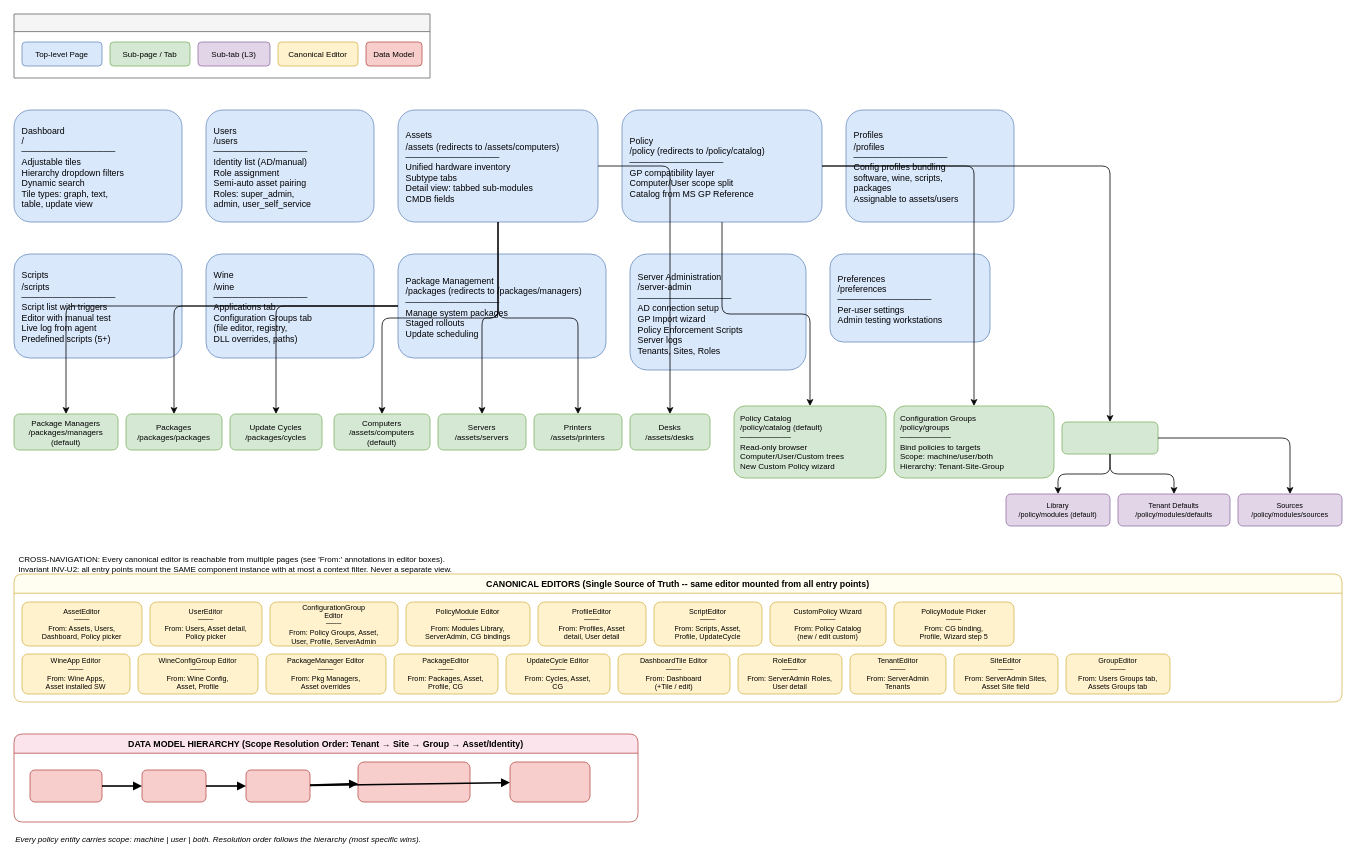
Image size: 1356x860. Some labels were removed from this diagram. The shapes that lost their labels are listed below. From the top down, each one's box as (x1, y1, x2, y2) in pixels, then its label:
(13, 13, 430, 78): LEGEND
(1061, 421, 1158, 454): Modules /policy/modules
(29, 769, 102, 802): Tenant
(141, 769, 206, 802): Site
(245, 769, 310, 802): Group
(357, 761, 470, 802): Asset (computer | server | printer | desk)
(509, 761, 590, 802): Identity (User)
